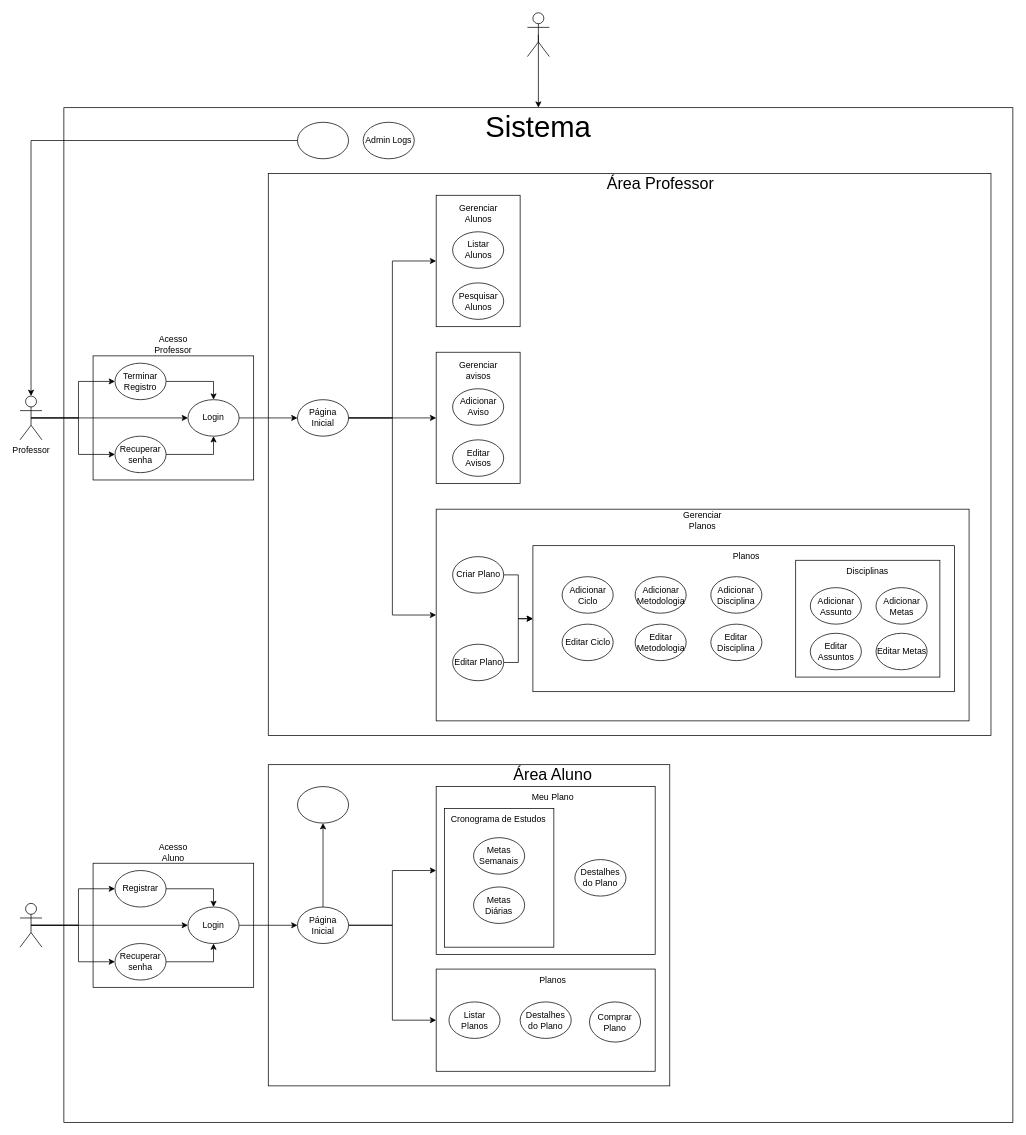
The diagram is 1026 pixels wide and 1135 high, and some of its shapes have lost their labels. The shapes that lost their labels are listed below. From the top down, each one's centre as x and y in pixels, then its label:
At (x=538, y=34): "Admin".
At (x=323, y=140): "Cadastrar Professor".
At (x=323, y=804): "Mural de Avisos".
At (x=30, y=925): "Aluno".
